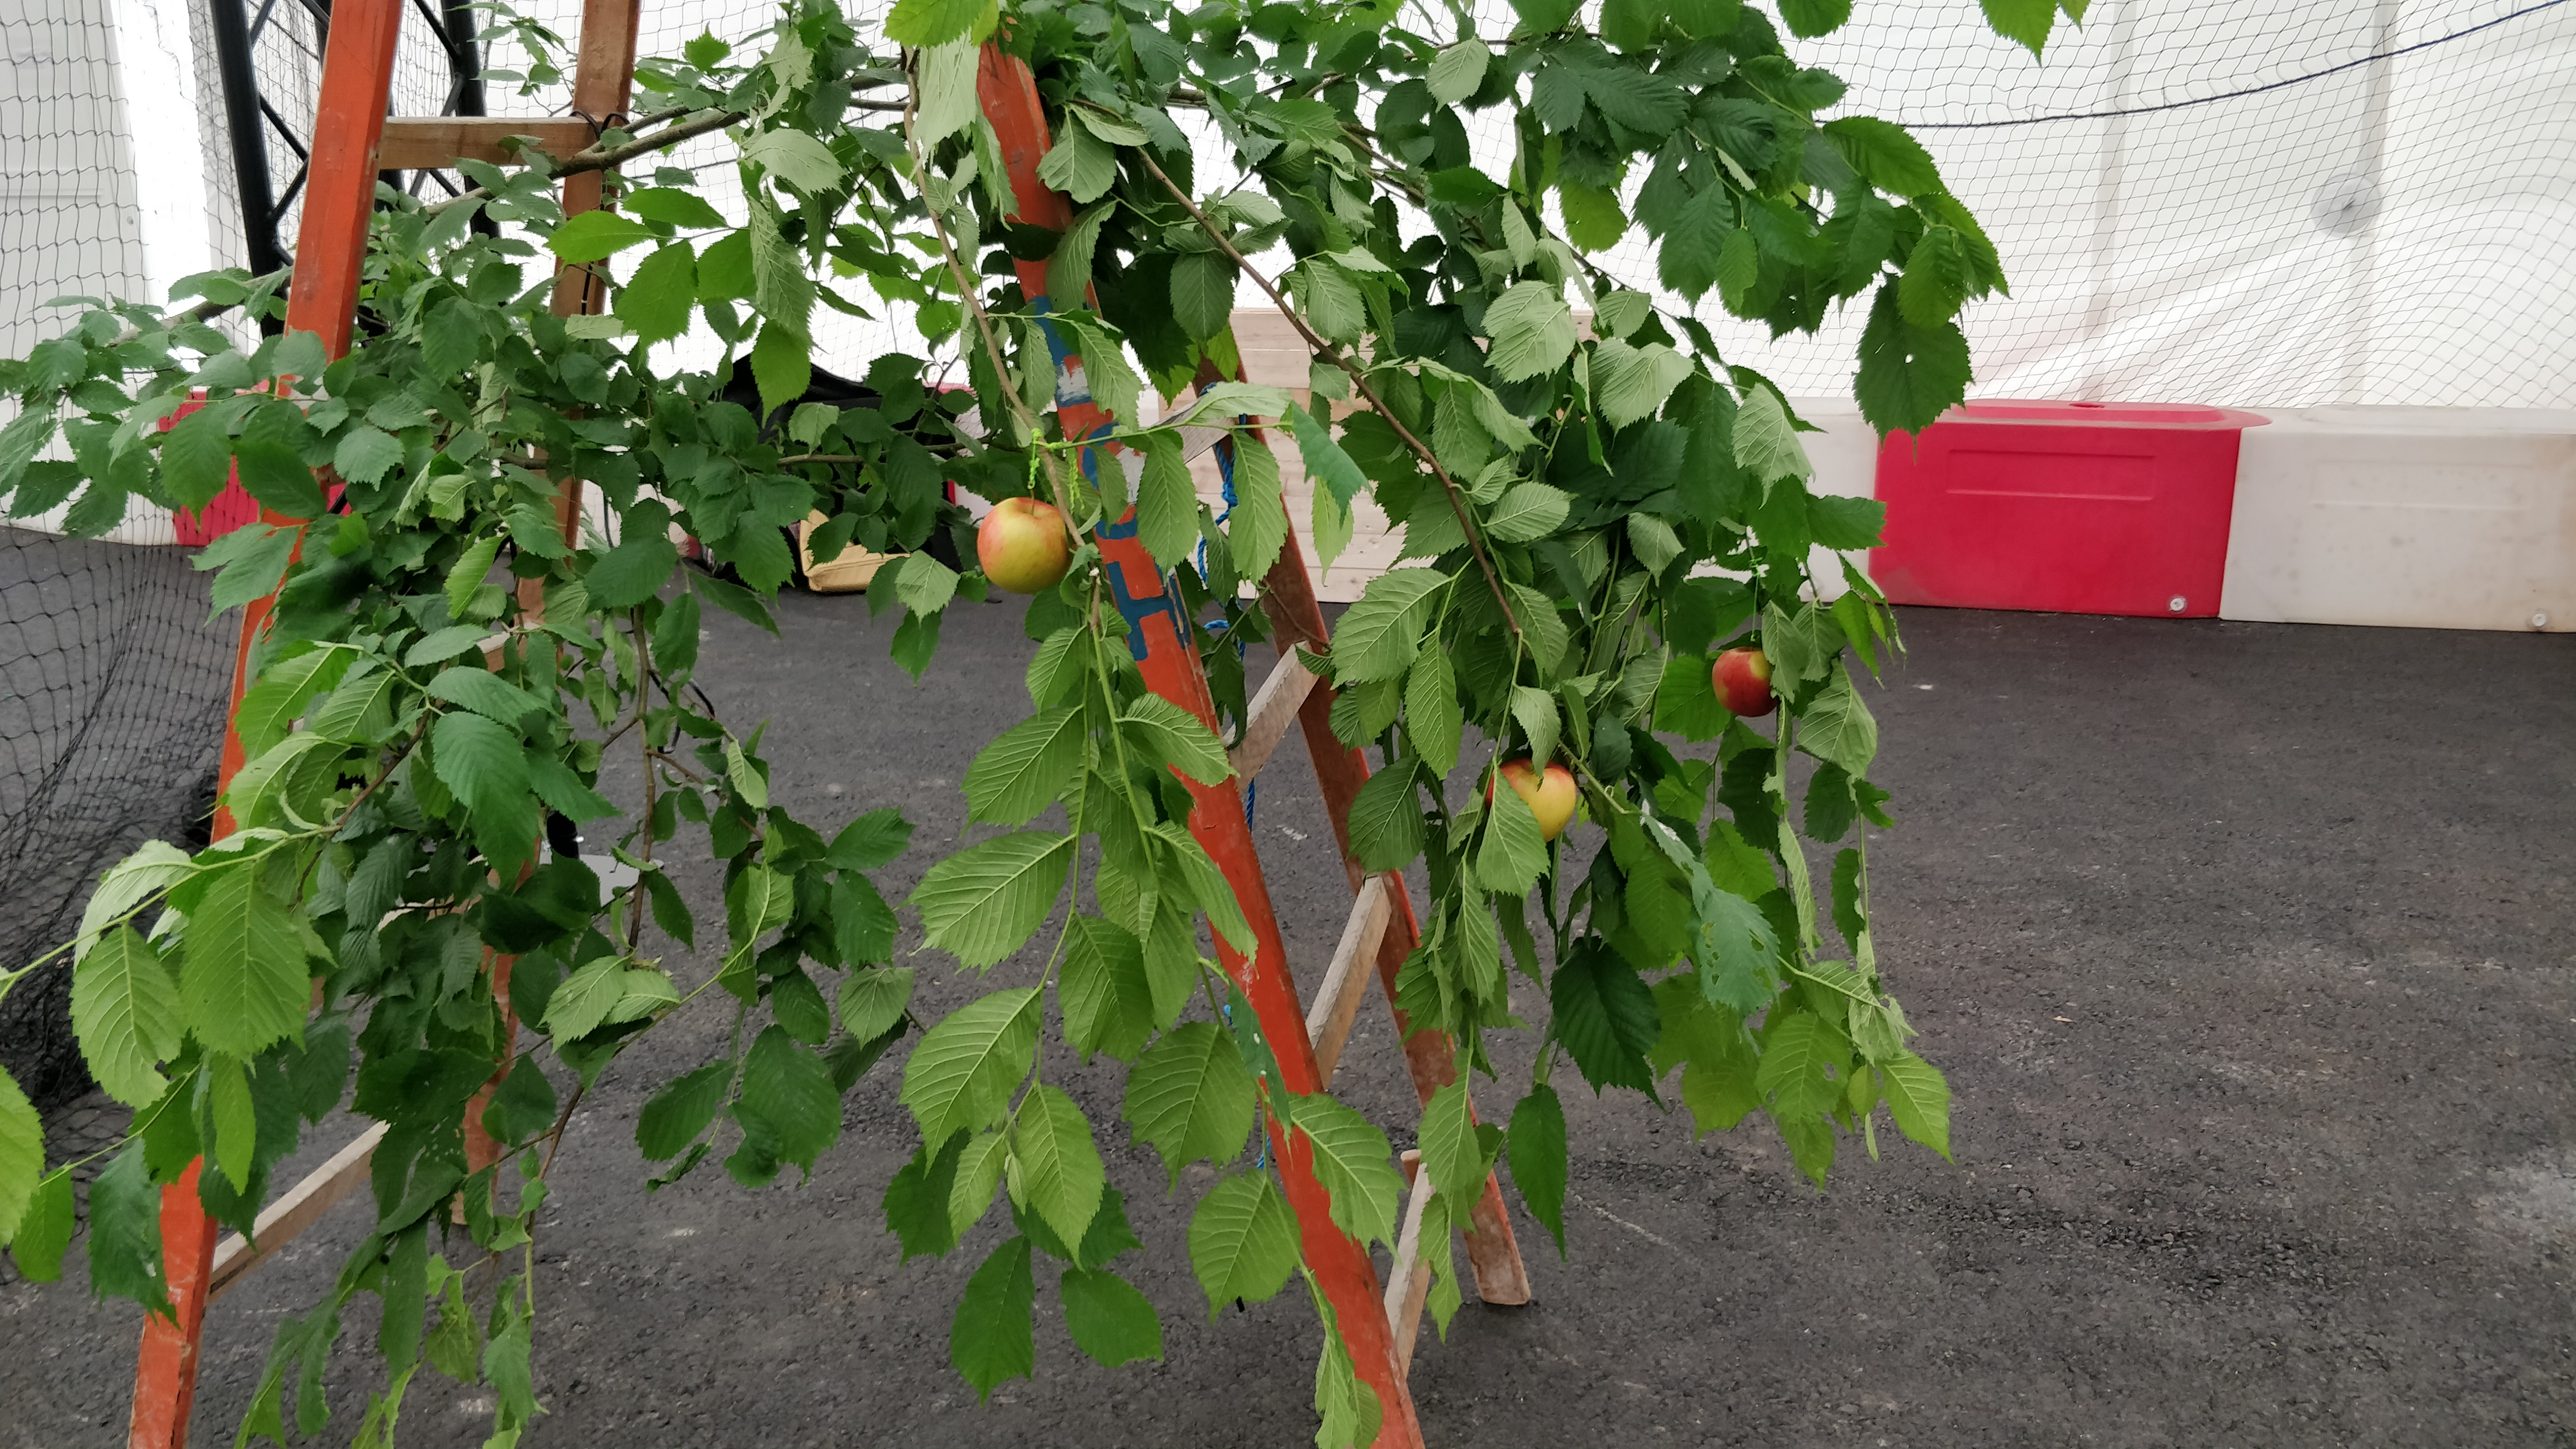apple: (977, 501, 1069, 596), (1486, 761, 1575, 842), (1711, 646, 1776, 717)
